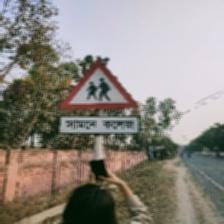College-in-front: (58, 53, 141, 140)
